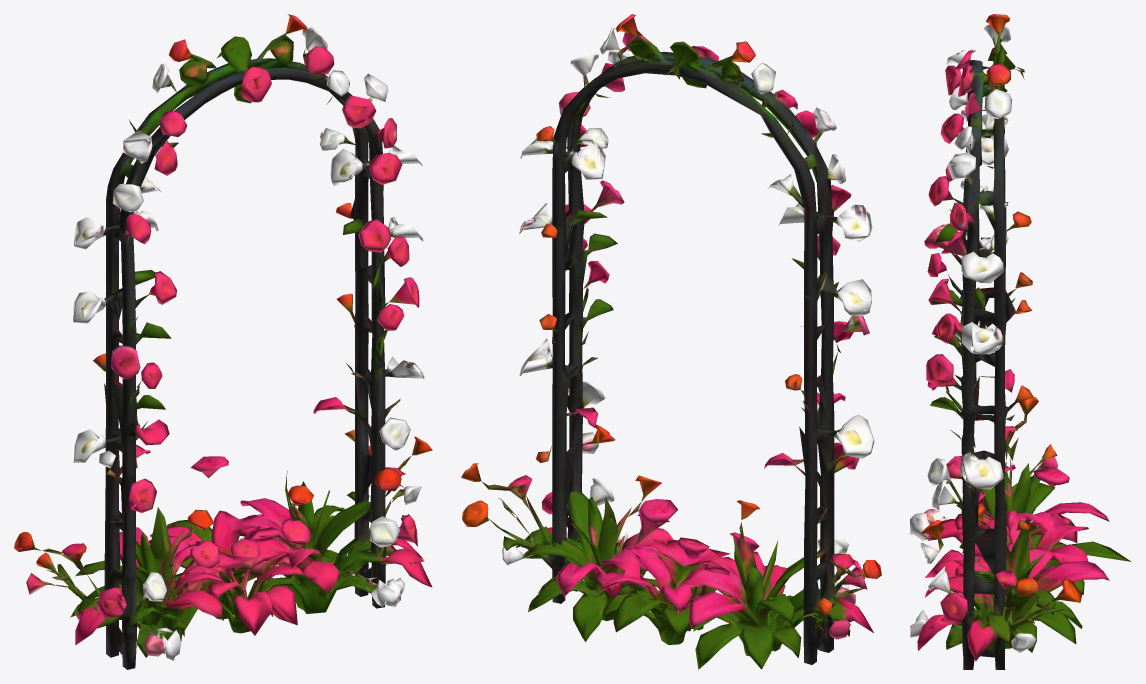
The model's file is flower_arch.glb.
3 renders of one model, left to right at view 1: azimuth 30°, elevation 25°; view 2: azimuth 150°, elevation 25°; view 3: azimuth 270°, elevation 25°, orthographic. The views are drawn at different scales.
Size of the model in its own units: 1.39 by 1.91 by 0.6726.
Materials: 1 (1 with a texture image).
